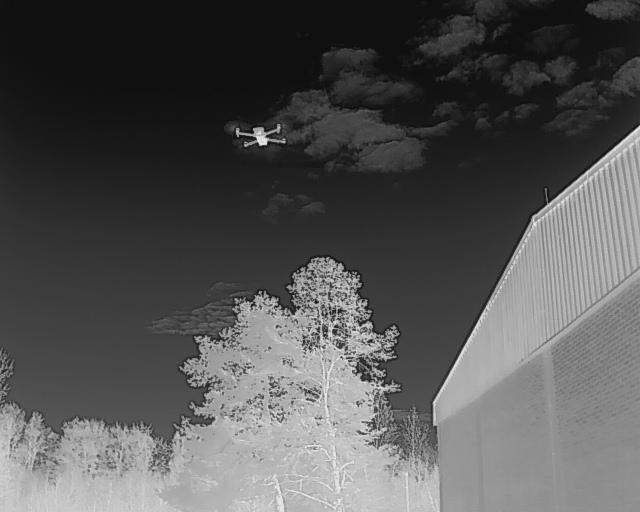drone: (230, 122, 288, 158)
